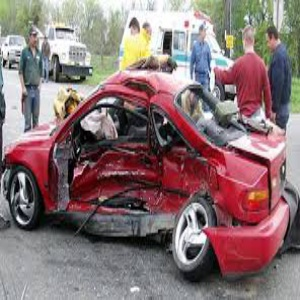door: (76, 151, 186, 219)
